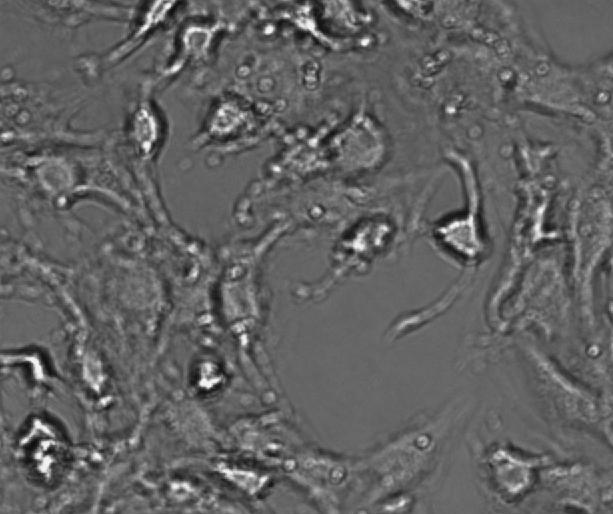Dead: (380, 143, 495, 361), (485, 135, 573, 355), (265, 99, 396, 193), (190, 411, 329, 476), (248, 2, 386, 62), (314, 210, 398, 300), (182, 85, 281, 161), (162, 452, 292, 509), (462, 438, 569, 502), (111, 75, 175, 174), (6, 410, 81, 491), (15, 150, 99, 216), (106, 1, 185, 71), (164, 10, 235, 82), (1, 335, 75, 399), (64, 345, 129, 416), (182, 345, 234, 399)
